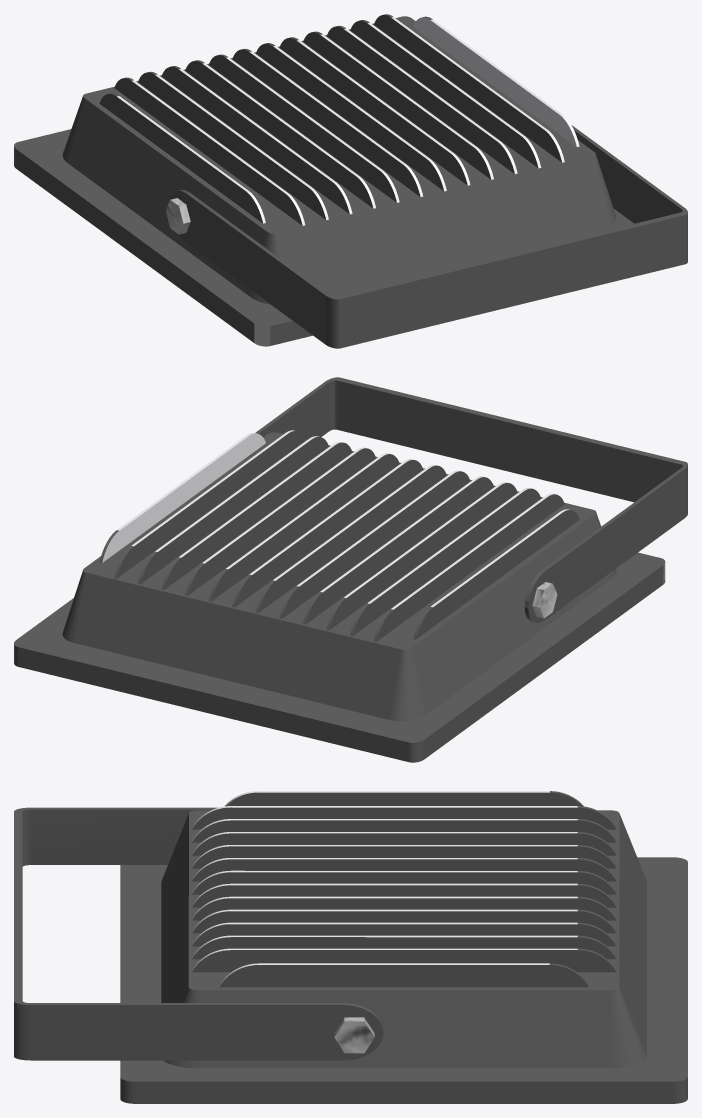
File: clear-light-100w.glb
3 views of the same model, one above another, from view 1: azimuth 30°, elevation 25°; view 2: azimuth 150°, elevation 25°; view 3: azimuth 270°, elevation 25° (orthographic). The views are drawn at different scales.
Visible parts, largest first — view 1: 3DGeom-2, 3DGeom-11, 3DGeom-8, 3DGeom-10; view 2: 3DGeom-2, 3DGeom-11, 3DGeom-8, 3DGeom-10; view 3: 3DGeom-2, 3DGeom-11, 3DGeom-8, 3DGeom-9.
Part boxes in pixels (bbox=[...]): 3DGeom-2: bbox=[14, 14, 634, 346]; 3DGeom-11: bbox=[169, 125, 687, 348]; 3DGeom-8: bbox=[117, 17, 579, 225]; 3DGeom-10: bbox=[165, 198, 190, 234]; 3DGeom-2: bbox=[14, 431, 665, 762]; 3DGeom-11: bbox=[255, 377, 687, 622]; 3DGeom-8: bbox=[102, 430, 569, 609]; 3DGeom-10: bbox=[532, 582, 557, 618]; 3DGeom-2: bbox=[120, 791, 687, 1103]; 3DGeom-11: bbox=[14, 807, 383, 1060]; 3DGeom-8: bbox=[192, 791, 577, 986]; 3DGeom-9: bbox=[334, 1017, 374, 1053].
Size of the model in its own units: 0.2251 by 0.0532 by 0.2856.
Materials: 8 (3 with a texture image).
